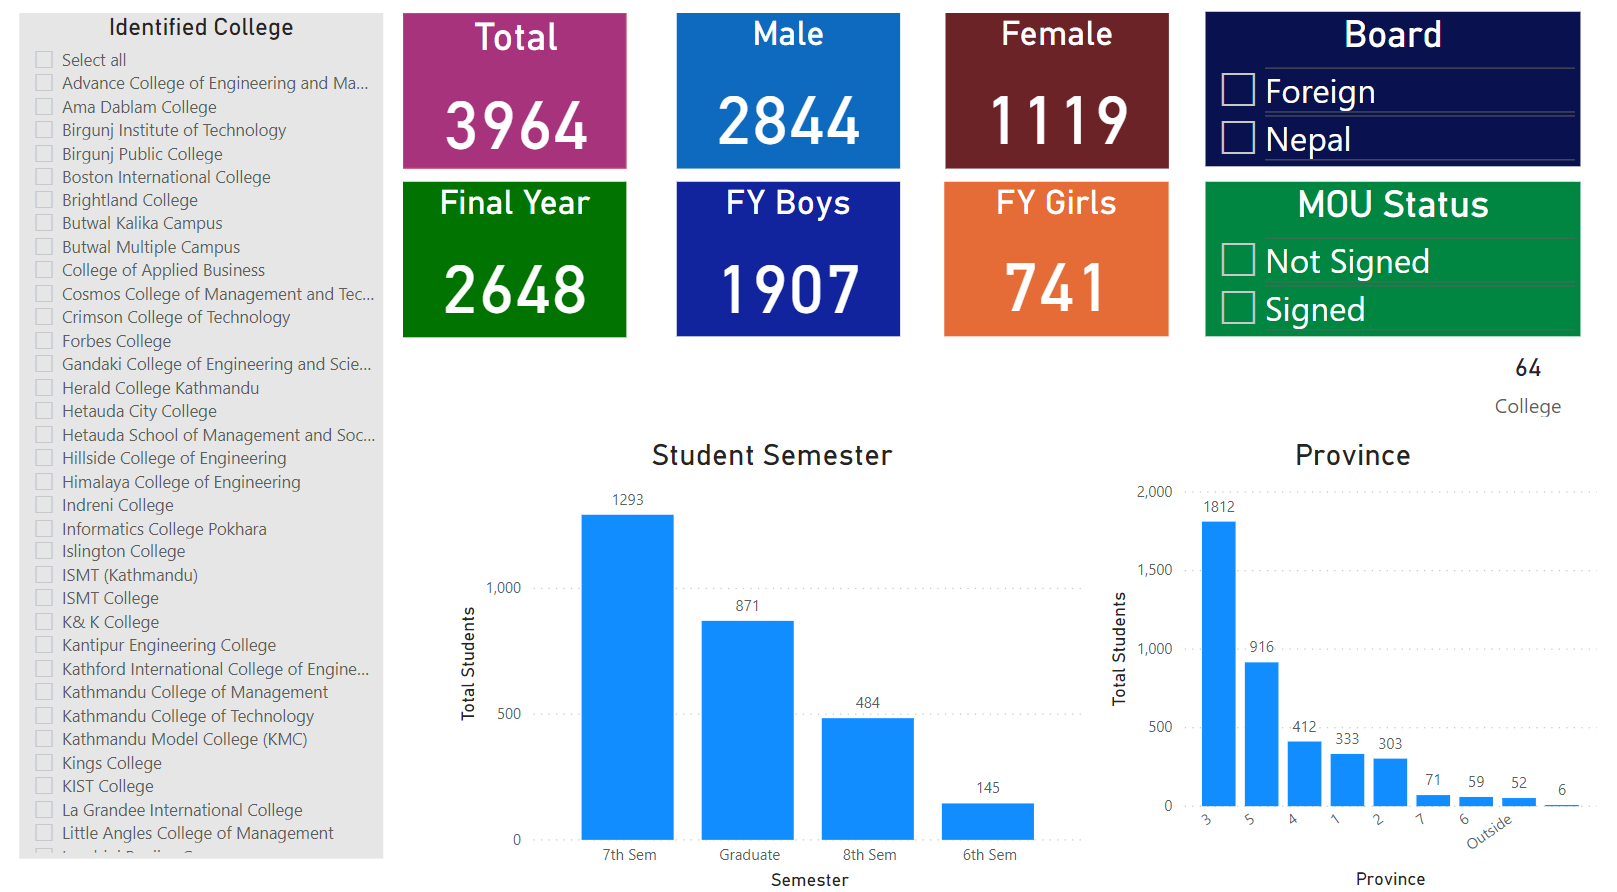

The dashboard page shown, as its layout file describes it:
{"tool":"powerbi","page":{"name":"MOU College","canvas":[1280,720],"ordinal":1},"visuals":[{"type":"slicer","title":"Identified College","fields":{"Values":["identifiedCollege (2).profile_field_collegename"]},"box":[9.3,11.6,292.1,678.4],"z":0},{"type":"card","title":"Total","fields":{"Values":["CountNonNull(user_latest.id)"]},"box":[316.5,11.6,179.2,124.5],"z":1000},{"type":"card","title":"Male","fields":{"Values":["CountNonNull(user_latest.profile_field_gender)"]},"box":[536.4,11.6,179.2,124.5],"z":2000},{"type":"card","title":"Female","fields":{"Values":["CountNonNull(user_latest.profile_field_gender)"]},"box":[751.7,11.6,179.2,124.5],"z":3000},{"type":"columnChart","title":"Student Semester","fields":{"Category":["user_latest.profile_field_Semester1"],"Y":["CountNonNull(user_latest.profile_field_Semester)1"]},"box":[356.4,351.5,513.9,368.5],"z":4000},{"type":"columnChart","title":"Province","fields":{"Category":["user_latest.profile_field_Province"],"Y":["CountNonNull(user_latest.profile_field_Province)"]},"box":[879,351.6,401,368.1],"z":5000},{"type":"slicer","title":"MOU Status","fields":{"Values":["identifiedCollege (2).status"]},"box":[960.4,147.6,300.7,124.1],"z":6000},{"type":"card","title":"Final Year","fields":{"Values":["CountNonNull(user_latest.id)"]},"box":[316.5,147.8,179.2,124.5],"z":7000},{"type":"card","title":"FY Boys","fields":{"Values":["CountNonNull(user_latest.profile_field_gender)"]},"box":[536.6,147.6,178.9,124.1],"z":8000},{"type":"card","title":"FY Girls","fields":{"Values":["CountNonNull(user_latest.profile_field_gender)"]},"box":[751.3,147.6,180,124.1],"z":9000},{"type":"slicer","title":"Board","fields":{"Values":["identifiedCollege (2).board"]},"box":[960.4,11.2,300.7,124.1],"z":10000},{"type":"card","fields":{"Values":["CountNonNull(identifiedCollege.profile_field_collegename)"]},"box":[1178.2,272.7,82.4,67.9],"z":11000}]}

Visuals, with their boxes in screenshot pixels (x1, y1, x2, y2), scaled from the page's 1280x720 canvas onto the 1617x892 screenshot:
"Identified College" slicer: (12,14,381,855)
"Total" card: (400,14,626,169)
"Male" card: (678,14,904,169)
"Female" card: (950,14,1176,169)
"Student Semester" columnChart: (450,435,1099,891)
"Province" columnChart: (1110,436,1616,891)
"MOU Status" slicer: (1213,183,1593,337)
"Final Year" card: (400,183,626,337)
"FY Boys" card: (678,183,904,337)
"FY Girls" card: (949,183,1176,337)
"Board" slicer: (1213,14,1593,168)
card - CountNonNull(identifiedCollege.profile_field_collegename): (1488,338,1592,422)
